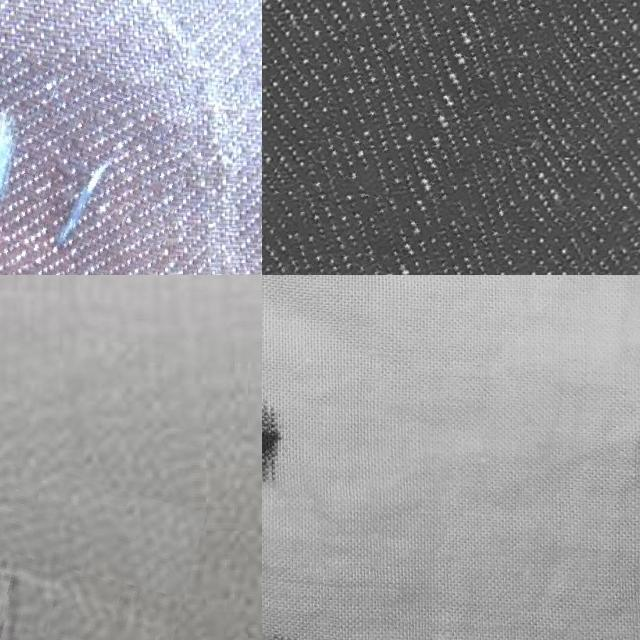Thread_other: (262, 341, 313, 489), (262, 590, 373, 640), (606, 479, 640, 640)
stains: (270, 0, 552, 275), (0, 40, 185, 275), (0, 414, 184, 640)
